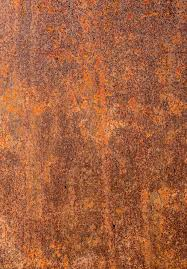rust: (1, 1, 187, 268)
